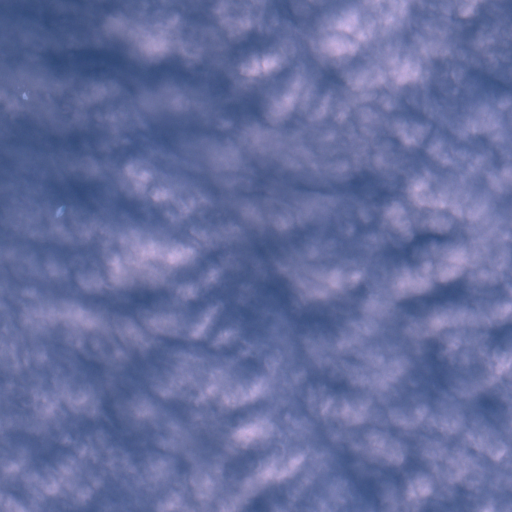Iceberg: (57, 207, 64, 217), (22, 93, 27, 99)
